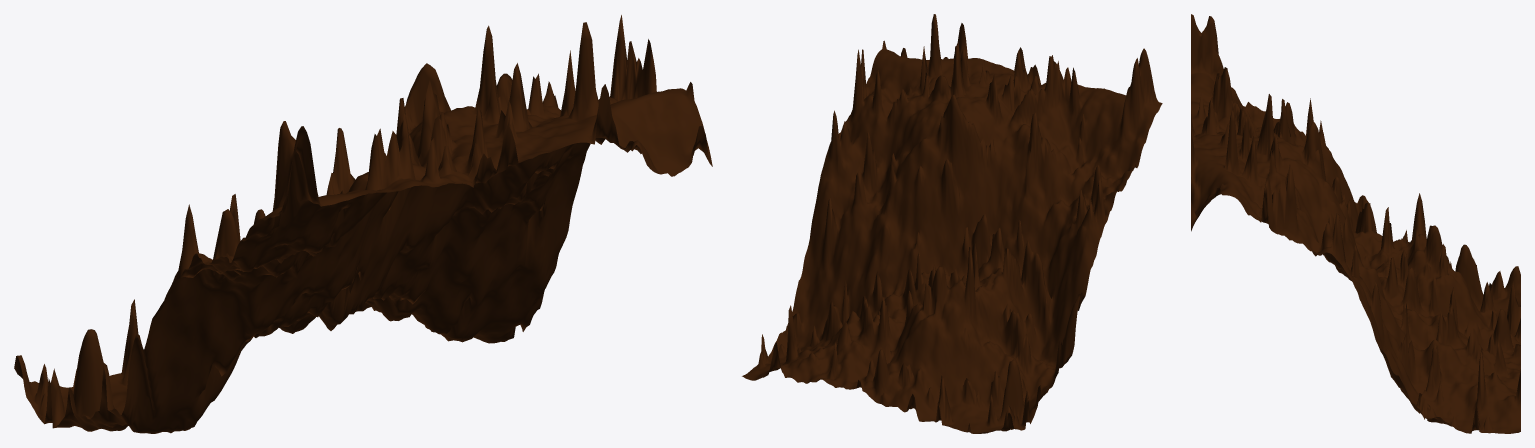
File: cavewalltop.fbx
The picture shows the model from 3 angles, left to right: view 1: azimuth 30°, elevation 25°; view 2: azimuth 150°, elevation 25°; view 3: azimuth 270°, elevation 25°; orthographic projection. The views are drawn at different scales.
Parts seen in each view (by area): view 1: Landscape; view 2: Landscape; view 3: Landscape.
Part boxes in pixels (x1,y1,x2,y2): Landscape: (14, 15, 712, 433); Landscape: (742, 14, 1162, 433); Landscape: (1191, 14, 1520, 433).
Size of the model in its own units: 1177 by 1176 by 1194.
